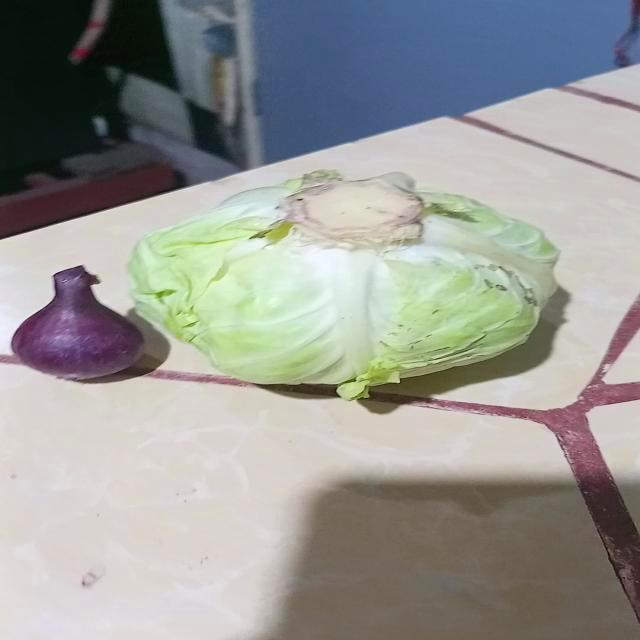cabbage: (127, 173, 558, 388)
onion: (11, 266, 147, 378)
